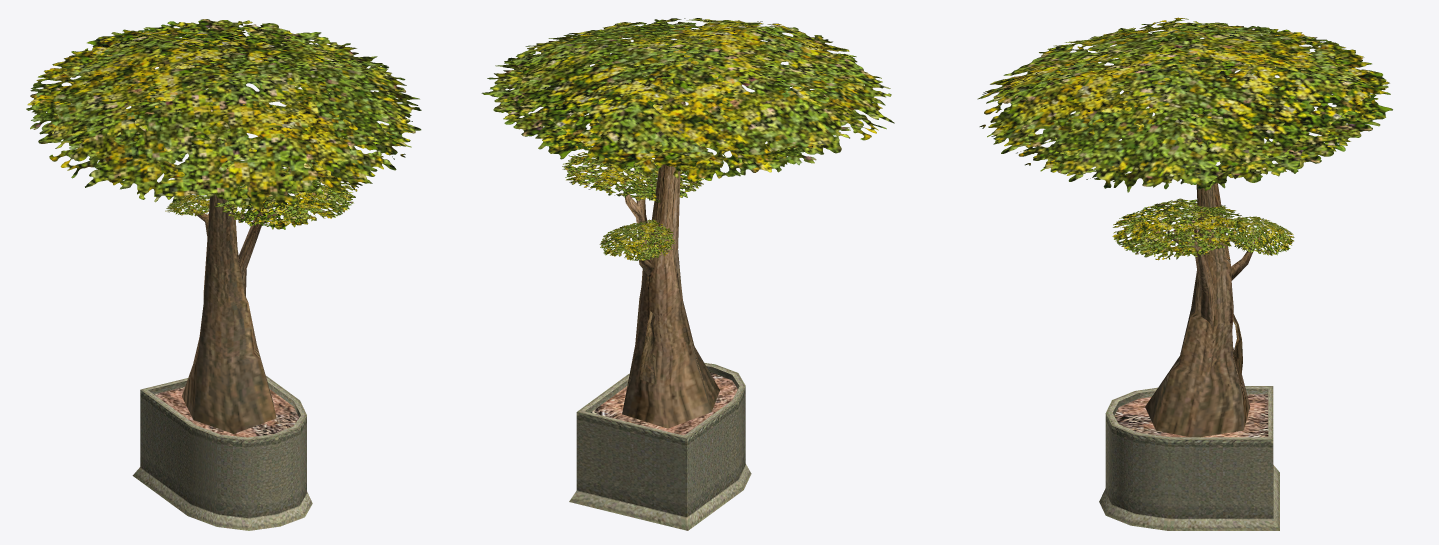
The model's file is frn_all_tree_potted_s1_l0.fbx.
The picture shows the model from 3 angles, left to right: view 1: azimuth 30°, elevation 25°; view 2: azimuth 150°, elevation 25°; view 3: azimuth 270°, elevation 25°; orthographic projection.
Parts seen in each view (by area): view 1: mesh_node; view 2: mesh_node; view 3: mesh_node.
Boxes of the visible parts, x1,y1,x2,y2 form: mesh_node: [26, 19, 421, 530]; mesh_node: [481, 18, 894, 530]; mesh_node: [977, 17, 1392, 530].
Bounding box in the file's own units: 2.36 × 2.4 × 2.49.
